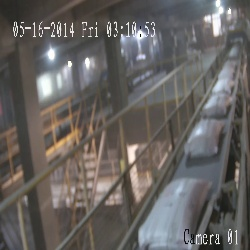cementbag: (138, 177, 211, 250), (184, 118, 225, 159), (201, 92, 231, 118), (212, 78, 235, 92), (217, 67, 236, 78)
